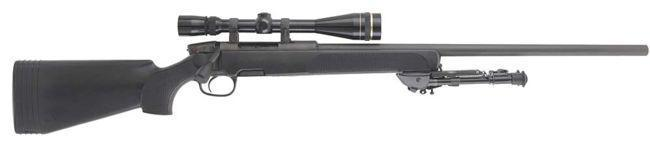gun: (5, 4, 650, 141)
